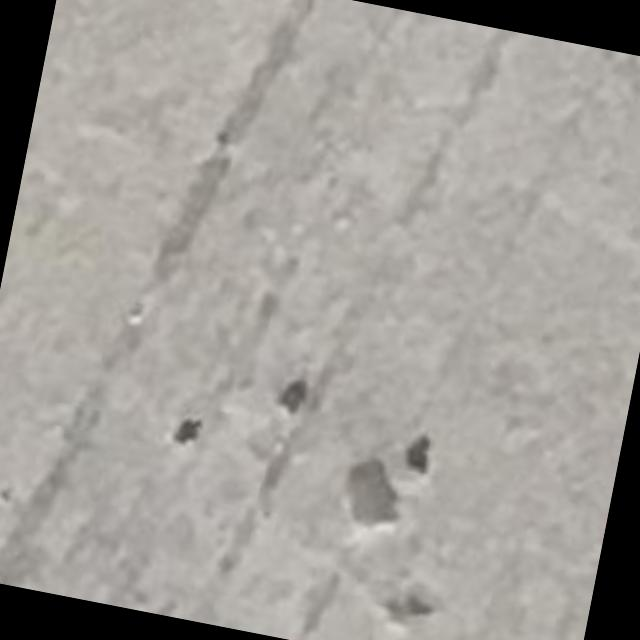peeling plaster: (345, 458, 399, 528)
